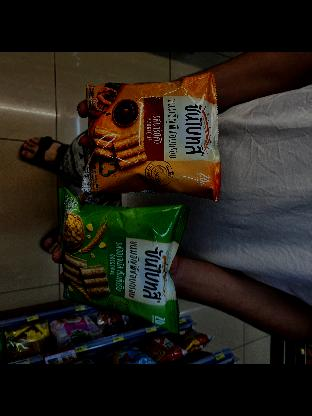Others: (74, 63, 224, 207), (47, 194, 196, 324)
